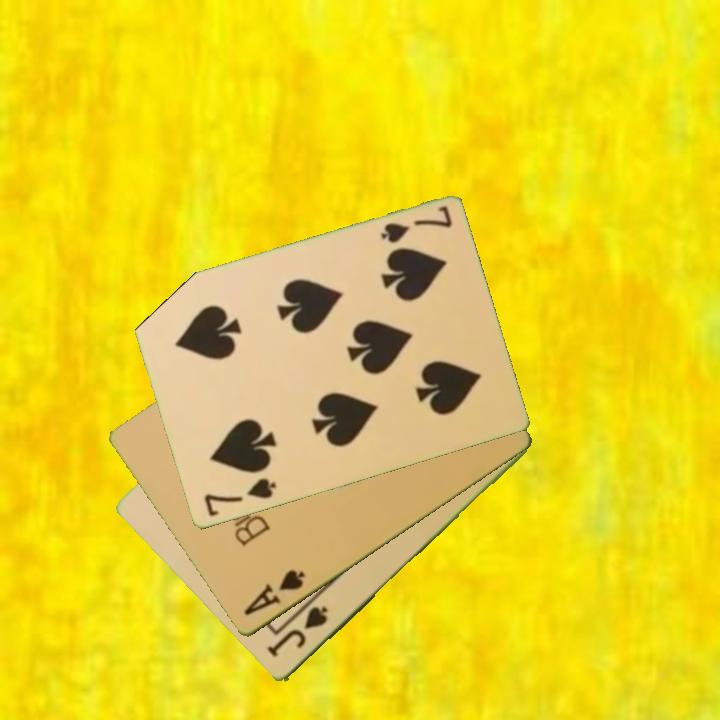7s: (200, 475, 279, 520), (377, 202, 455, 247)
As: (240, 566, 309, 619)
Js: (265, 603, 331, 661)
